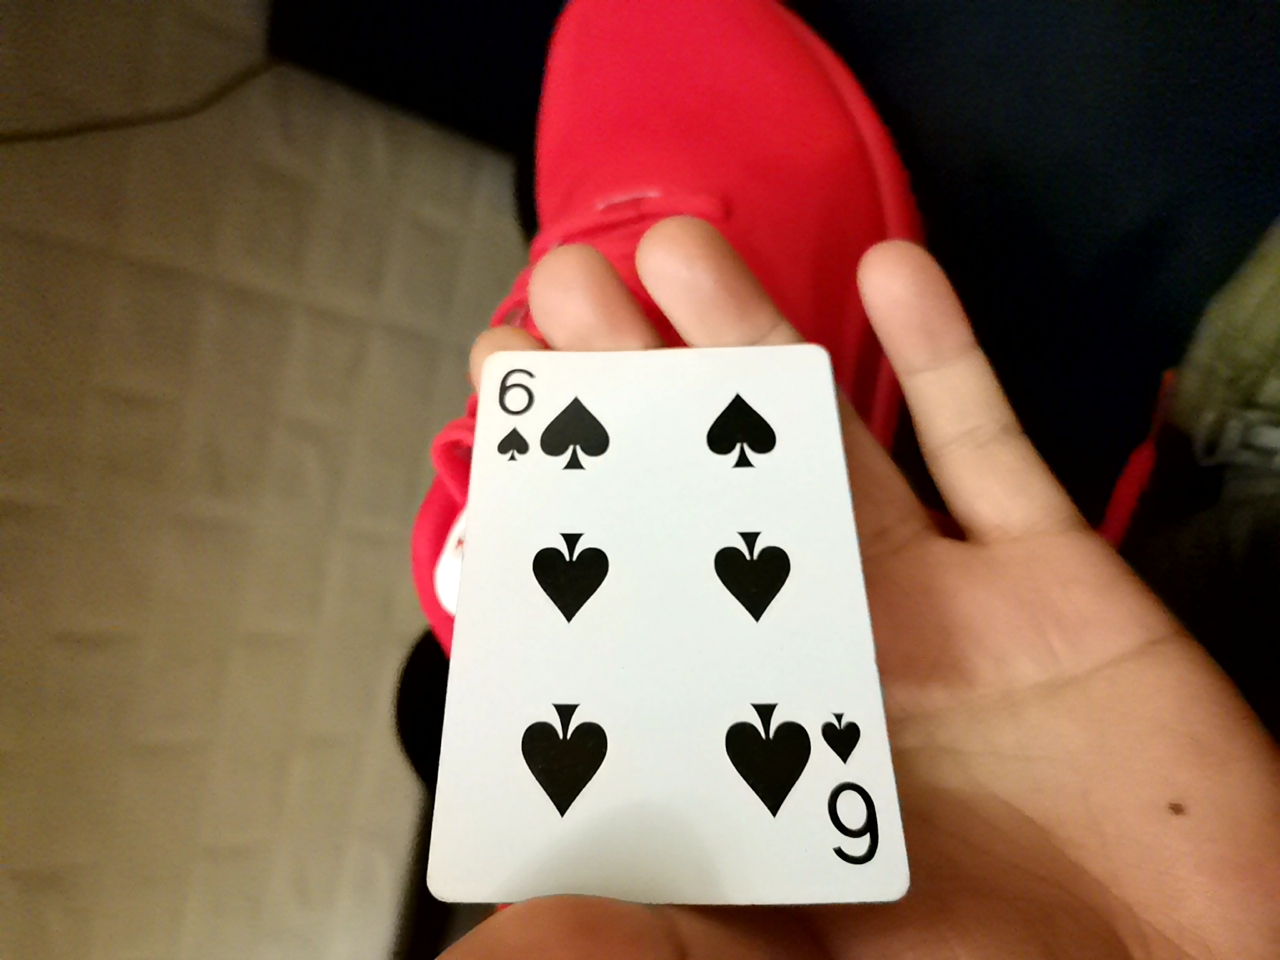ht 6: (424, 336, 911, 917)
